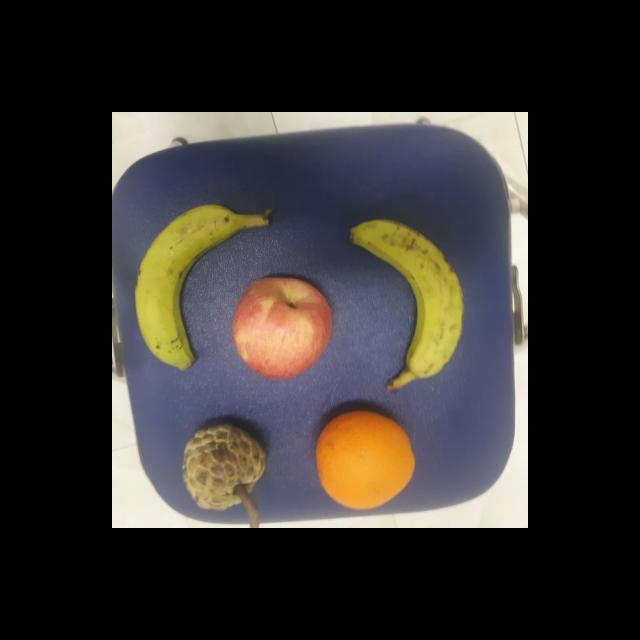Sakya fruit: (176, 419, 270, 512)
apple: (228, 270, 339, 380)
banana: (132, 204, 278, 372), (351, 214, 468, 396)
orange: (312, 404, 416, 512)
